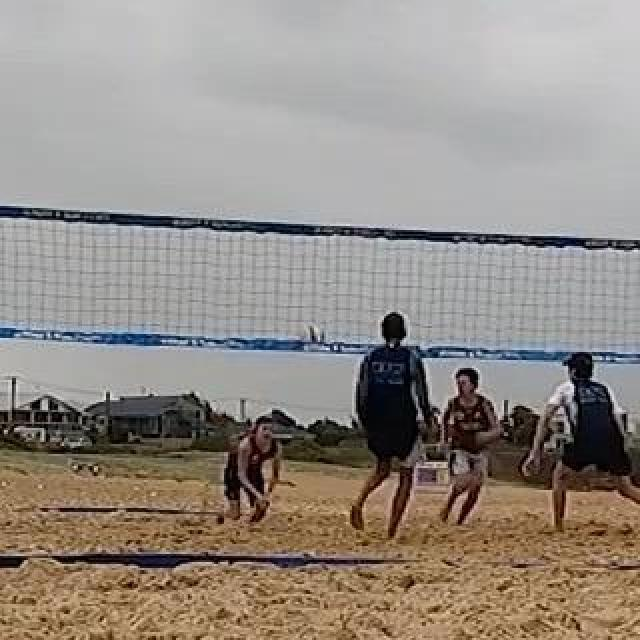volleyball: (297, 326, 323, 350)
